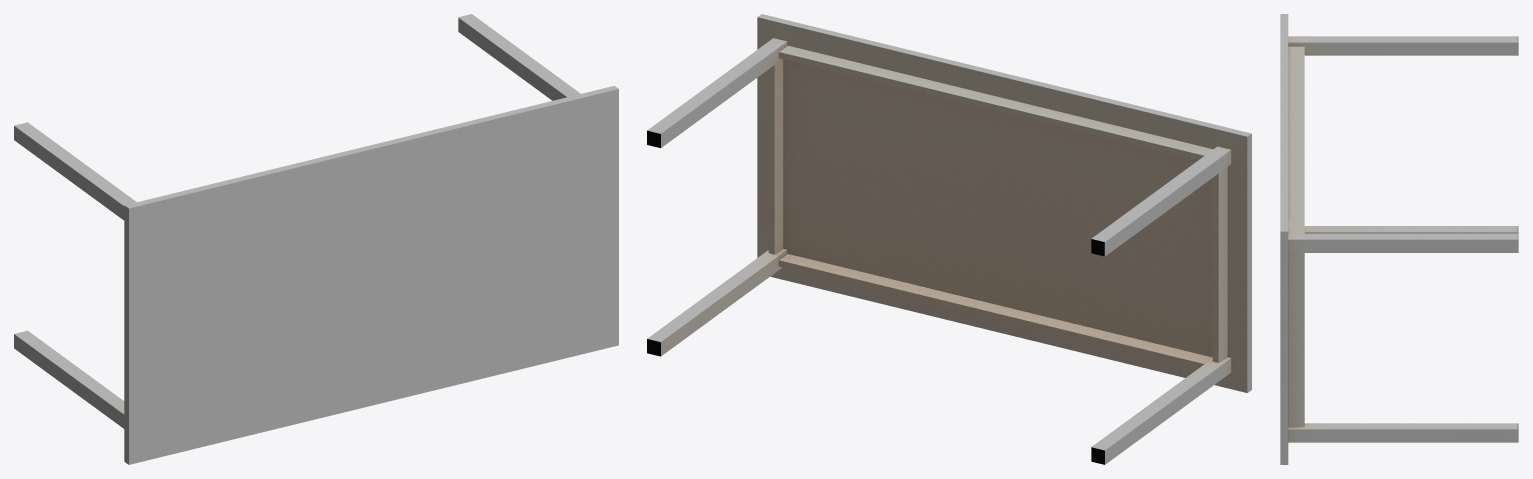
File: C1_table_final_2.obj
The picture shows the model from 3 angles, left to right: view 1: azimuth 30°, elevation 25°; view 2: azimuth 150°, elevation 25°; view 3: azimuth 270°, elevation 25°; orthographic projection. The views are drawn at different scales.
Parts seen in each view (by area): view 1: C1_table_final_2.001; view 2: C1_table_final_2.001; view 3: C1_table_final_2.001.
Boxes of the visible parts, x1,y1,x2,y2 form: C1_table_final_2.001: (14,14,618,464); C1_table_final_2.001: (647,14,1251,464); C1_table_final_2.001: (1280,14,1518,464).
Size of the model in its own units: 1.6 by 0.8 by 0.74.
1 material, 1 textured.
